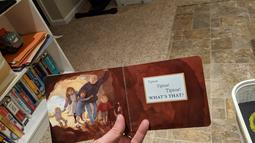text block: (146, 76, 186, 101)
